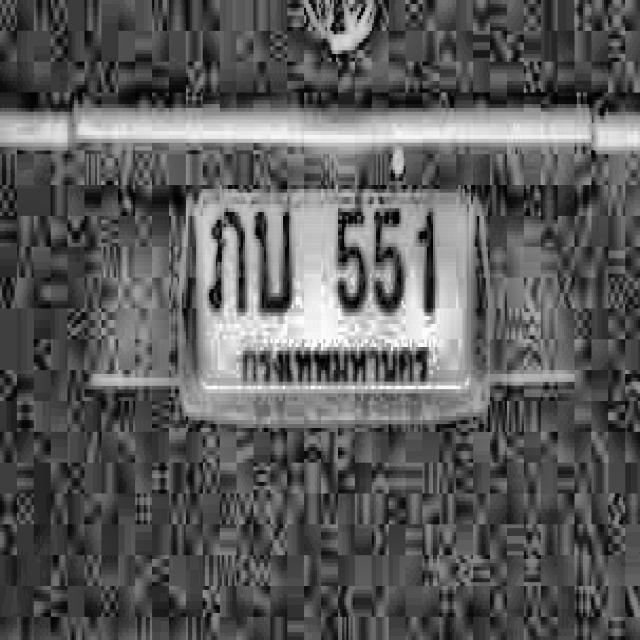license-plate: (179, 173, 492, 421)
